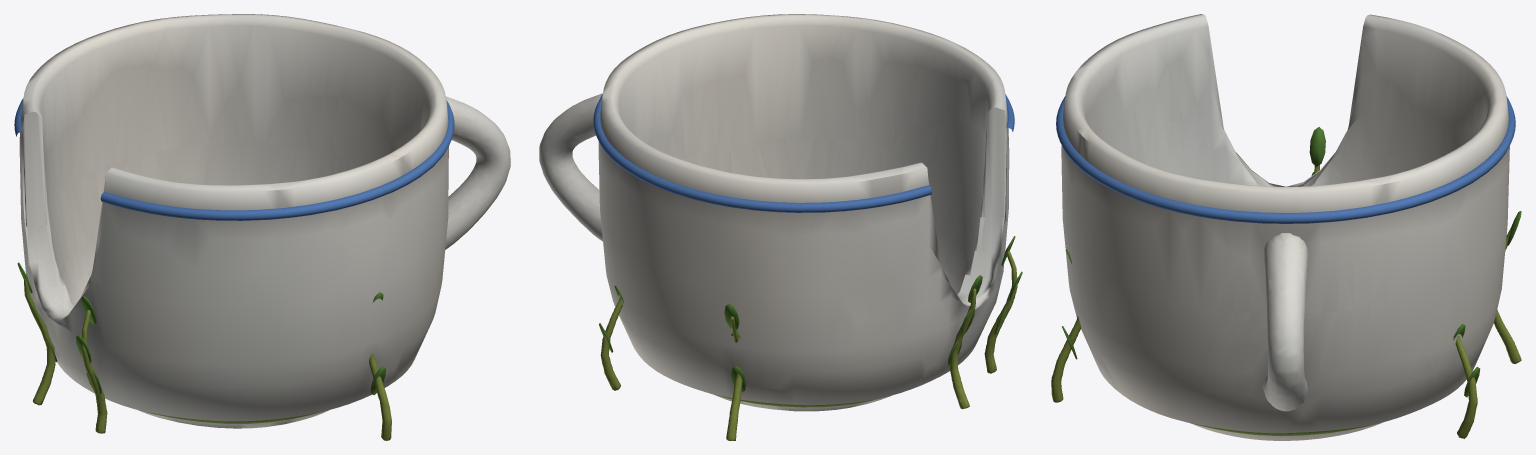
File: mire_teacup.glb
3 views of the same model, side by side, from view 1: azimuth 30°, elevation 25°; view 2: azimuth 150°, elevation 25°; view 3: azimuth 270°, elevation 25° (orthographic). The views are drawn at different scales.
Parts seen in each view (by area): view 1: mire_teacup; view 2: mire_teacup; view 3: mire_teacup.
Part boxes in pixels (bbox=[...]): mire_teacup: bbox=[14, 14, 510, 440]; mire_teacup: bbox=[539, 14, 1022, 440]; mire_teacup: bbox=[1051, 14, 1521, 440].
Size of the model in its own units: 15.53 by 8.67 by 12.77.
